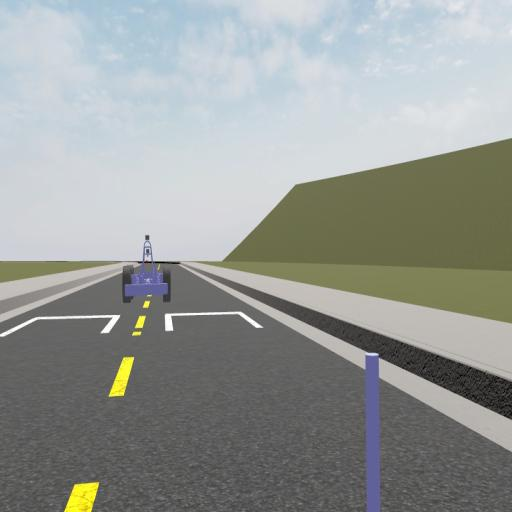ERP-42: (122, 234, 172, 304)
